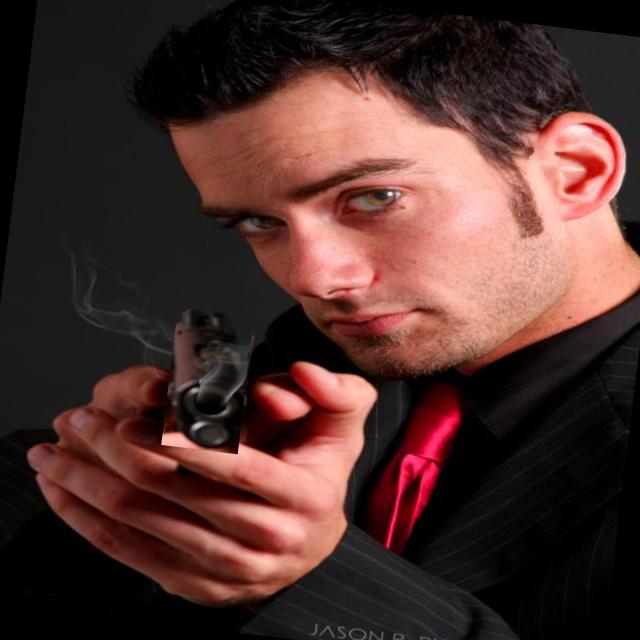Gun: (170, 309, 247, 451)
